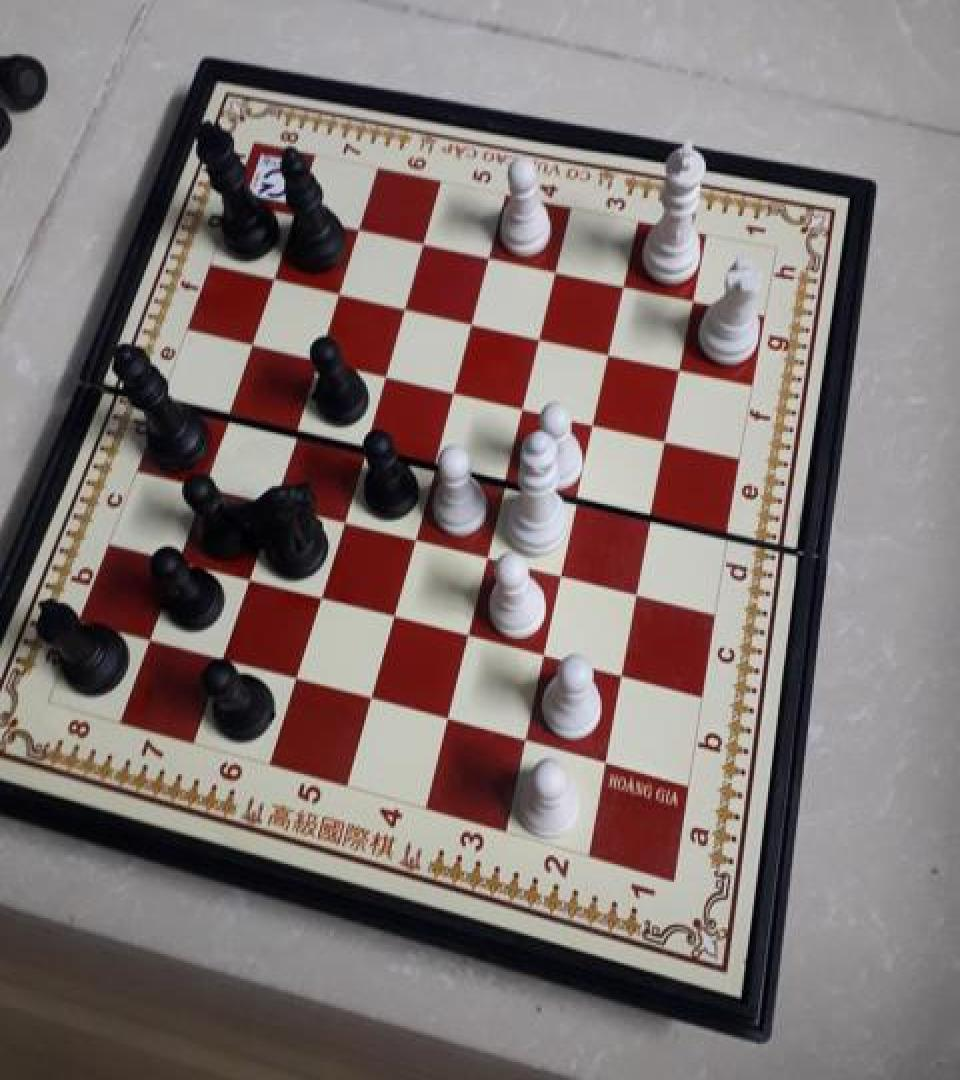xcorner: (360, 686, 386, 716), (437, 706, 463, 736), (457, 622, 483, 652), (262, 488, 288, 518), (332, 506, 358, 536), (551, 560, 577, 590), (627, 578, 653, 608), (496, 464, 522, 494), (568, 482, 594, 512), (513, 392, 539, 422), (584, 408, 610, 438), (462, 308, 488, 338), (413, 228, 439, 258), (546, 256, 572, 286), (139, 628, 165, 657), (211, 647, 237, 676), (285, 666, 311, 695), (515, 728, 541, 757), (594, 749, 620, 778), (166, 548, 192, 577), (237, 566, 263, 595), (309, 584, 335, 613), (383, 603, 409, 632), (611, 661, 637, 690), (192, 472, 218, 501), (217, 400, 243, 429), (285, 415, 311, 444), (354, 432, 380, 461), (424, 448, 450, 477), (642, 499, 668, 528), (241, 331, 267, 360), (307, 345, 333, 374), (375, 362, 401, 391), (443, 377, 469, 406), (656, 425, 682, 454), (263, 265, 289, 294), (328, 279, 354, 308), (395, 294, 421, 323), (530, 323, 556, 352), (600, 338, 626, 367), (670, 353, 696, 382), (349, 215, 375, 244), (479, 243, 505, 272), (614, 272, 640, 301), (683, 286, 709, 315), (533, 642, 559, 670), (404, 524, 430, 552), (477, 542, 503, 570), (285, 202, 311, 230)
